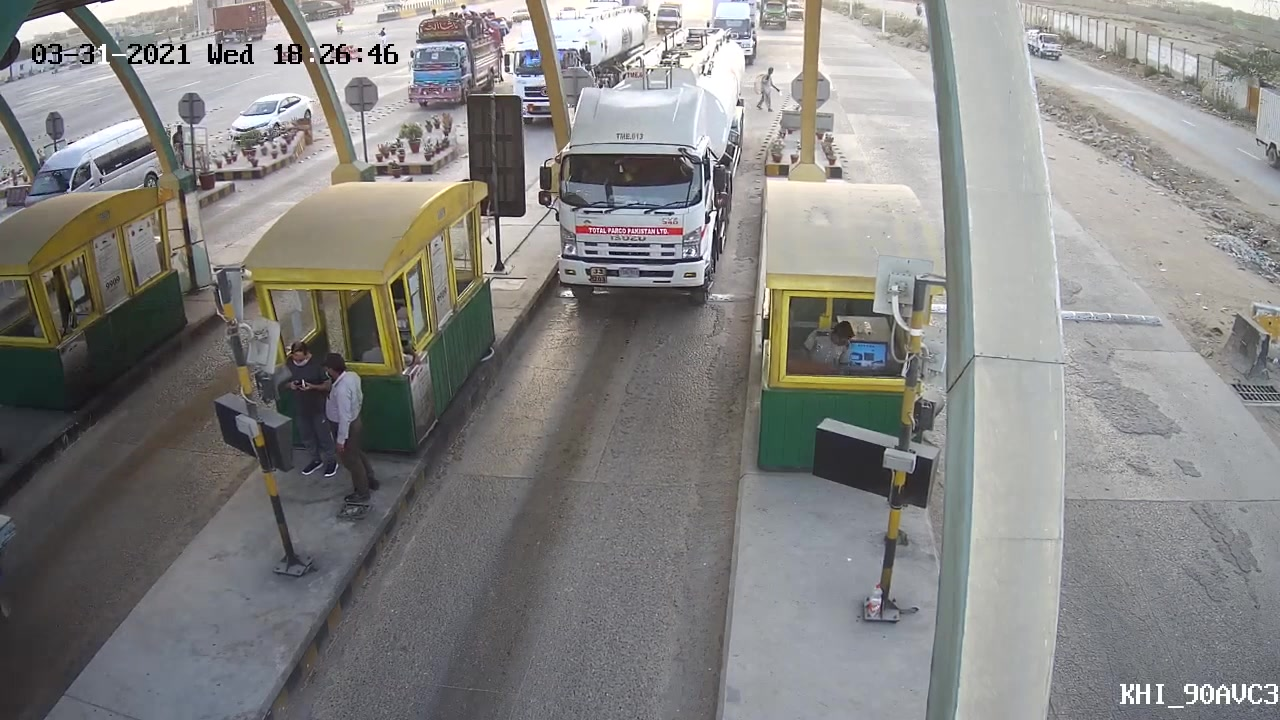F6: (546, 19, 752, 309)
